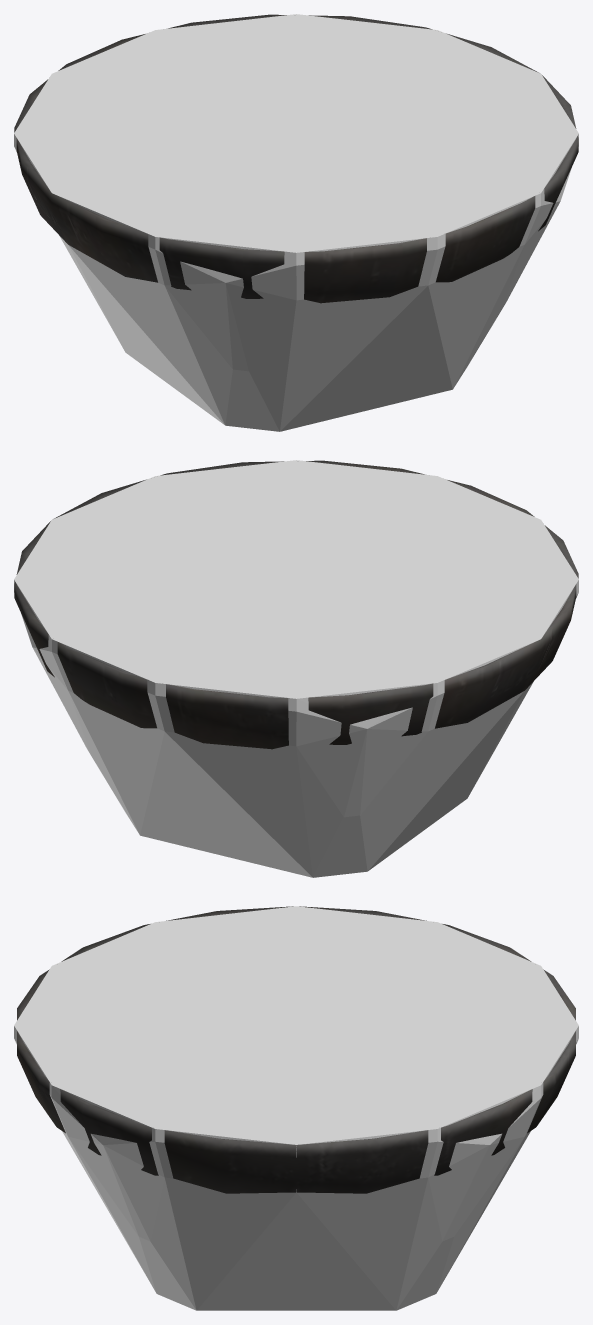
Rendered from brazier_pillartop.webp.glb.
3 renders of one model, top to bottom at view 1: azimuth 30°, elevation 25°; view 2: azimuth 150°, elevation 25°; view 3: azimuth 270°, elevation 25°, orthographic.
Parts seen in each view (by area): view 1: COL, LOD0_body; view 2: COL, LOD0_body; view 3: COL, LOD0_body.
Boxes of the visible parts, x1,y1,x2,y2 form: COL: (14,14,578,431); LOD0_body: (14,14,578,303); COL: (14,460,578,877); LOD0_body: (14,460,578,749); COL: (14,906,578,1310); LOD0_body: (17,906,575,1193).
Bounding box in the file's own units: 1.2 × 0.5388 × 1.2.
2 materials, 1 textured.
